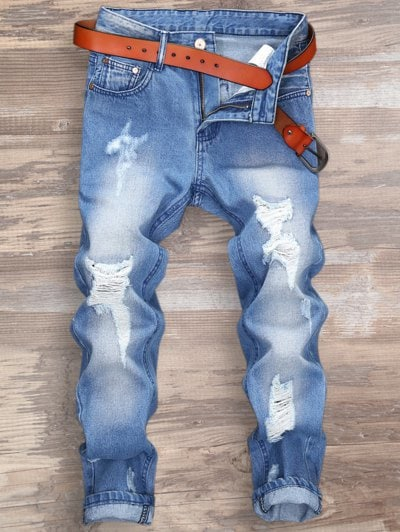jeans: (56, 4, 353, 525)
